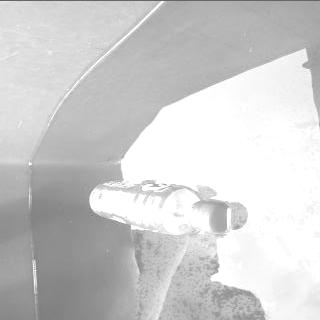bottle: (88, 178, 233, 234)
